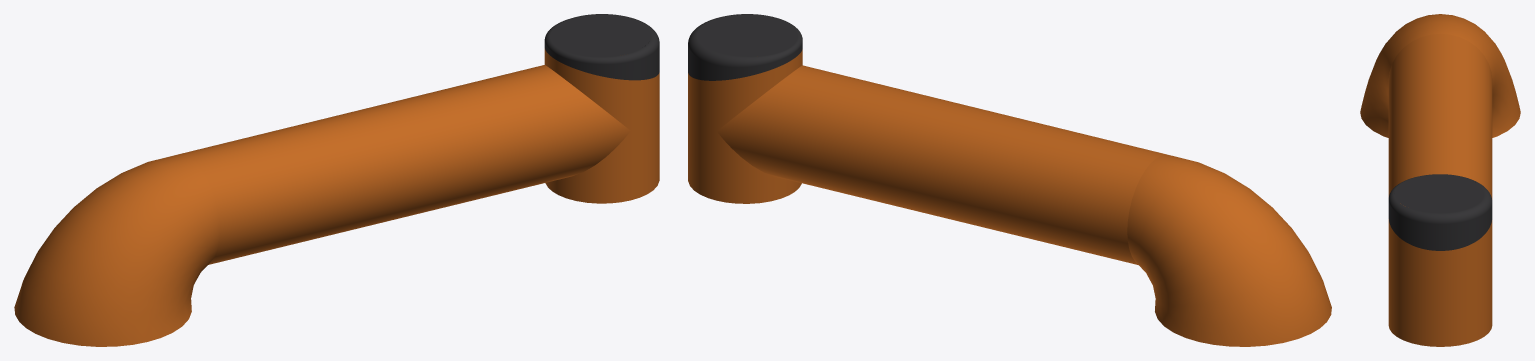
3 views of the same model, side by side, from view 1: azimuth 30°, elevation 25°; view 2: azimuth 150°, elevation 25°; view 3: azimuth 270°, elevation 25° (orthographic). The views are drawn at different scales.
Visible parts, largest first — view 1: NONE-DC_Shell, NONE-DC_Shell_ncl1_1; view 2: NONE-DC_Shell, NONE-DC_Shell_ncl1_1; view 3: NONE-DC_Shell, NONE-DC_Shell_ncl1_1.
Boxes of the visible parts, bbox=[...] form: NONE-DC_Shell: bbox=[14, 48, 659, 346]; NONE-DC_Shell_ncl1_1: bbox=[544, 14, 659, 80]; NONE-DC_Shell: bbox=[688, 49, 1331, 346]; NONE-DC_Shell_ncl1_1: bbox=[688, 14, 802, 80]; NONE-DC_Shell: bbox=[1360, 14, 1520, 346]; NONE-DC_Shell_ncl1_1: bbox=[1388, 174, 1492, 250].
Size of the model in its own units: 0.4715 by 0.116 by 0.1098.
